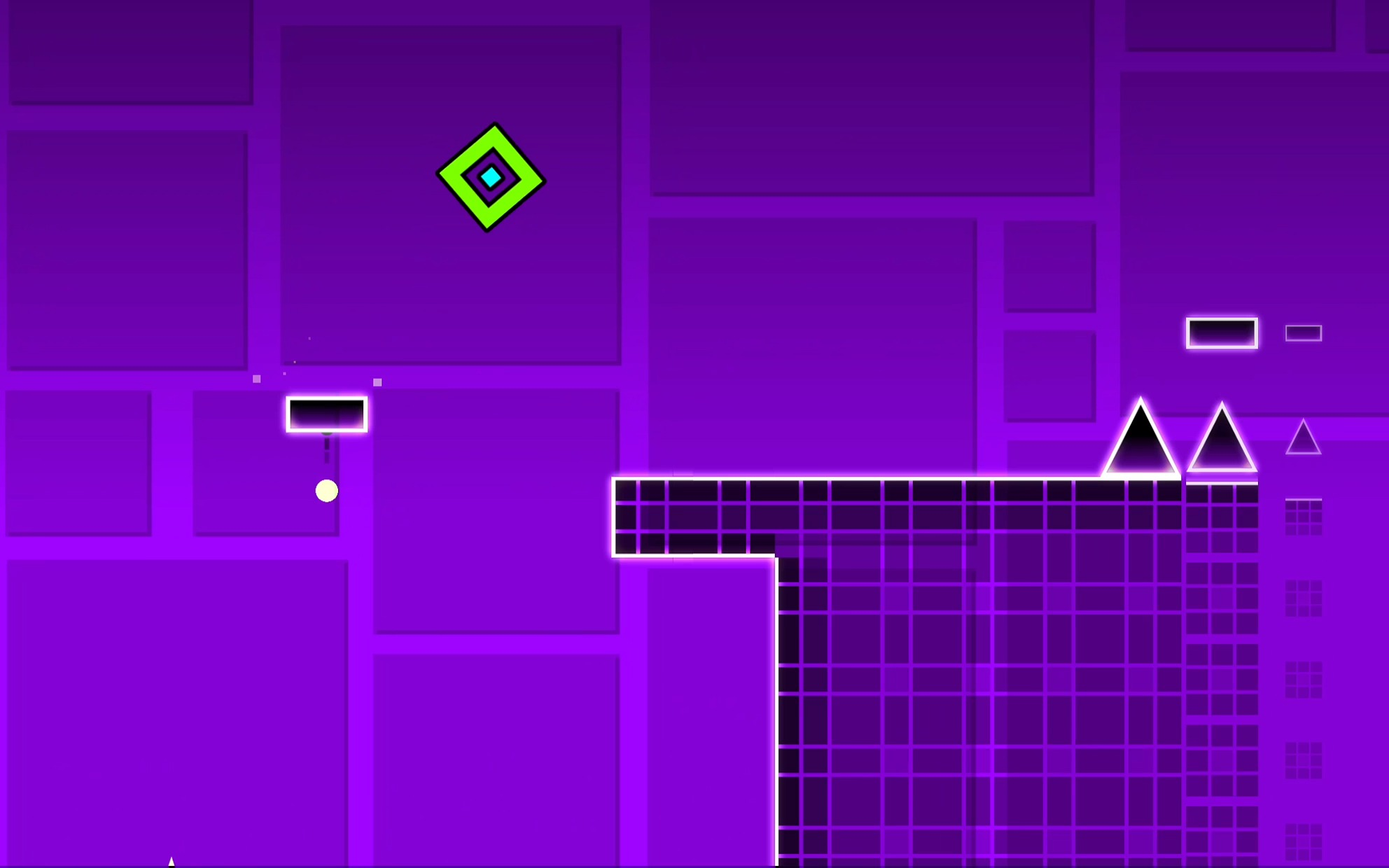Block2: (783, 473, 1321, 868), (611, 477, 774, 554)
Block3: (284, 396, 368, 433), (1185, 316, 1259, 347)
Player: (437, 123, 545, 230)
Spike: (1103, 398, 1179, 474), (1188, 402, 1256, 472), (1286, 419, 1320, 454)
